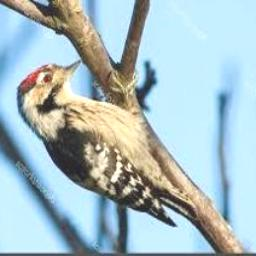Woodpecker: (17, 59, 198, 227)
